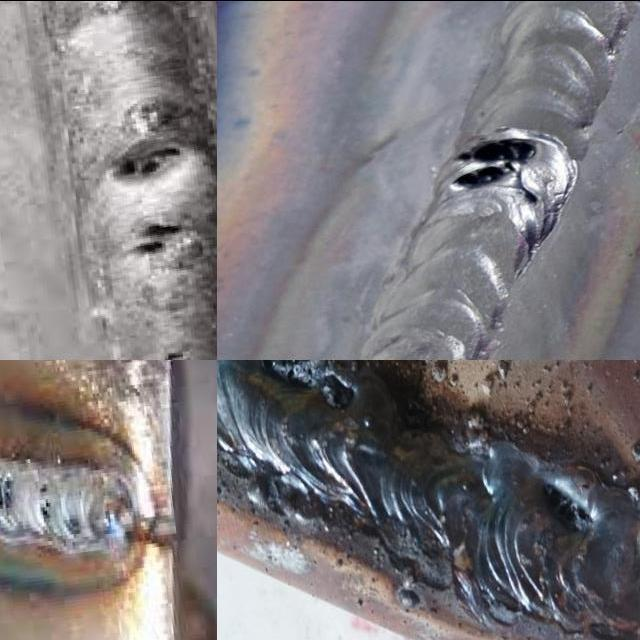defect: (442, 129, 545, 195), (256, 359, 353, 412), (106, 138, 194, 187), (537, 475, 595, 538), (122, 214, 192, 256), (35, 482, 53, 525), (0, 470, 17, 513), (156, 342, 190, 359)
